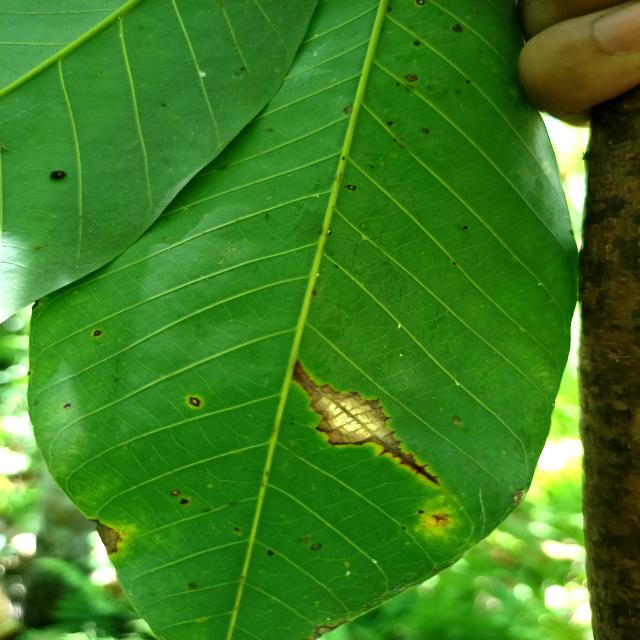Colletotrichum: (188, 396, 201, 407), (452, 24, 463, 33), (346, 184, 357, 191), (414, 0, 426, 6), (170, 489, 180, 496), (93, 329, 102, 336), (180, 498, 189, 504), (267, 550, 274, 556), (413, 40, 420, 46), (387, 121, 393, 126), (466, 80, 471, 84)
Corynespora: (292, 361, 439, 485)
